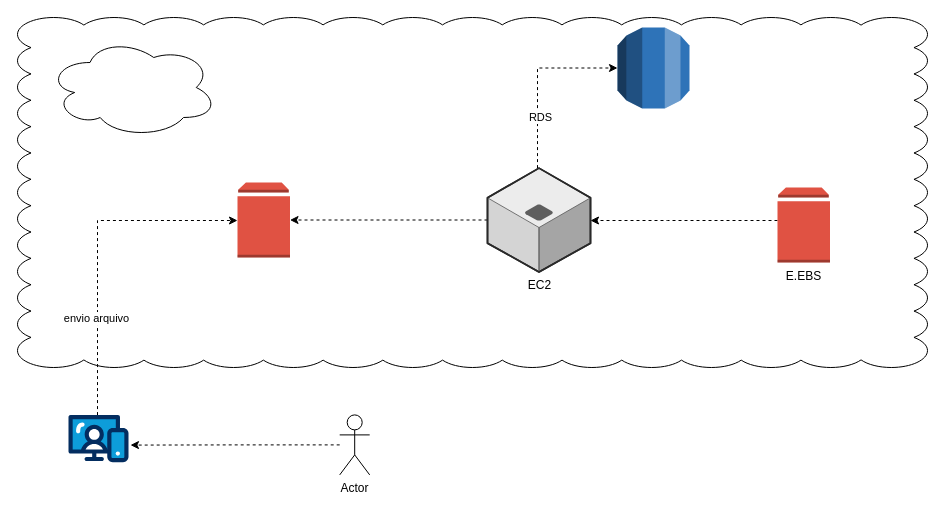
Some shapes in this 945 by 513 pixel diagram are drawn without their labels. Each missing label, with the centre of its shape:
"AWS" belongs at (132,87).
"D.EBS" belongs at (263,220).
